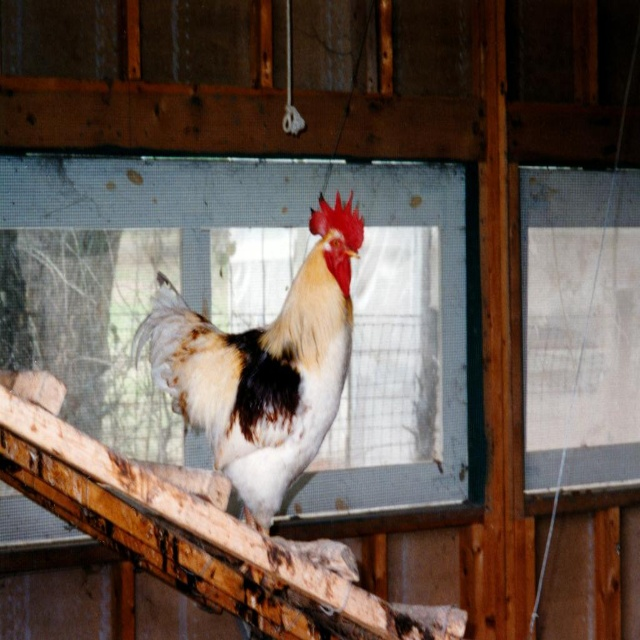Chicken: (142, 182, 365, 550)
